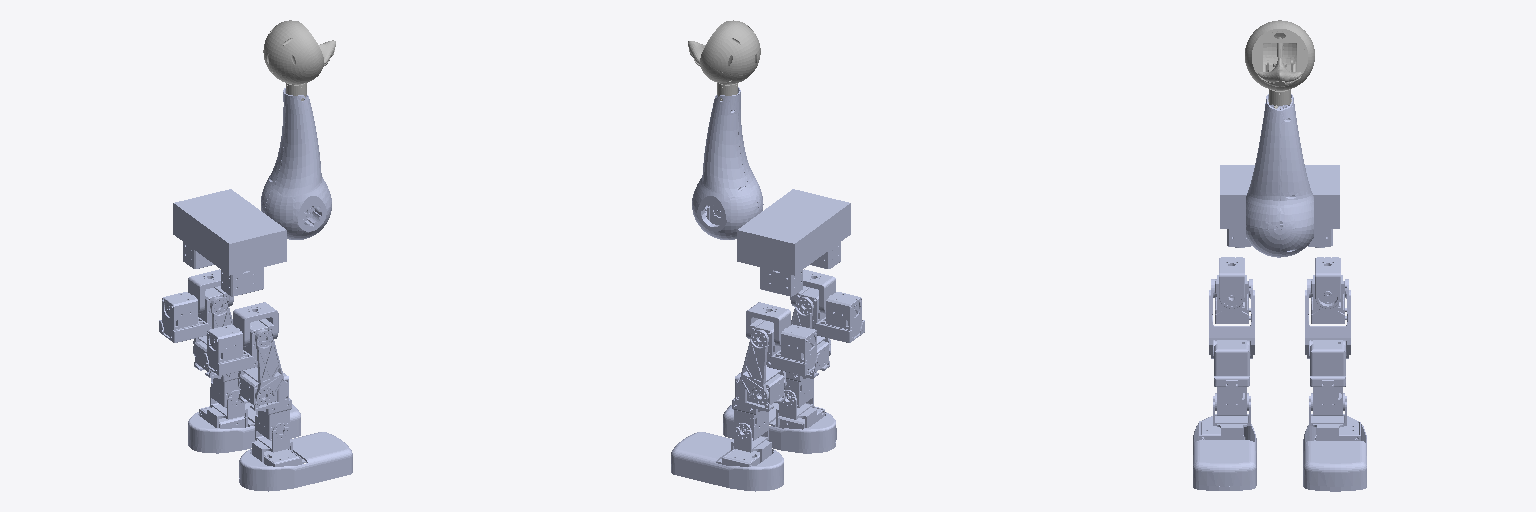
--- What the picture shows (computed from the rendered views, not written in the file) ---
3 views of the same robot in one strip: view 1: azimuth 30°, elevation 25°; view 2: azimuth 150°, elevation 25°; view 3: azimuth 270°, elevation 25° (orthographic).
Robot: exhx5 — 17 links, 16 joints (15 revolute, 1 fixed); root link Base; default pose: all joints at 0.
Visible links, largest first — view 1: body_link, neck_pitch_link, r_ank_roll_link, head_pan_link, l_ank_roll_link, r_hip_roll_link, l_hip_roll_link, r_knee_link, r_hip_pitch_link, l_knee_link, r_hip_yaw_link, r_ank_pitch_link (+3 smaller); view 2: body_link, neck_pitch_link, l_ank_roll_link, head_pan_link, r_ank_roll_link, l_hip_roll_link, r_hip_roll_link, l_knee_link, l_hip_pitch_link, r_knee_link, l_hip_yaw_link, r_hip_yaw_link (+3 smaller); view 3: neck_pitch_link, body_link, head_pan_link, r_ank_roll_link, l_ank_roll_link, l_knee_link, r_knee_link, r_hip_pitch_link, l_hip_pitch_link, r_hip_roll_link, l_hip_yaw_link, l_hip_roll_link (+3 smaller).
Link boxes in pixels (box(x1,y1,x2,y2)): body_link: box(173, 189, 286, 296); neck_pitch_link: box(261, 88, 331, 239); r_ank_roll_link: box(239, 432, 352, 491); head_pan_link: box(263, 20, 335, 84); l_ank_roll_link: box(188, 403, 300, 453); r_hip_roll_link: box(204, 319, 273, 375); l_hip_roll_link: box(159, 286, 229, 342); r_knee_link: box(239, 373, 291, 440); r_hip_pitch_link: box(238, 330, 283, 404); l_knee_link: box(194, 341, 239, 407); r_hip_yaw_link: box(233, 302, 278, 346); r_ank_pitch_link: box(252, 427, 292, 462); body_link: box(737, 189, 850, 296); neck_pitch_link: box(692, 87, 763, 239); l_ank_roll_link: box(671, 432, 783, 491); head_pan_link: box(688, 20, 760, 84); r_ank_roll_link: box(723, 403, 836, 453); l_hip_roll_link: box(750, 319, 819, 375); r_hip_roll_link: box(795, 286, 864, 342); l_knee_link: box(732, 373, 785, 440); l_hip_pitch_link: box(740, 330, 786, 404); r_knee_link: box(784, 341, 829, 407); l_hip_yaw_link: box(746, 302, 790, 346); r_hip_yaw_link: box(790, 269, 835, 313); neck_pitch_link: box(1246, 94, 1313, 257); body_link: box(1220, 165, 1339, 247); head_pan_link: box(1245, 20, 1314, 90); r_ank_roll_link: box(1193, 416, 1256, 490); l_ank_roll_link: box(1303, 416, 1366, 491); l_knee_link: box(1310, 340, 1345, 415); r_knee_link: box(1214, 340, 1249, 415); r_hip_pitch_link: box(1209, 279, 1254, 358); l_hip_pitch_link: box(1305, 279, 1350, 358); r_hip_roll_link: box(1215, 257, 1250, 323); l_hip_yaw_link: box(1315, 258, 1340, 308); l_hip_roll_link: box(1311, 257, 1346, 323).
Size in the robot's own frame: 0.2042 by 0.1967 by 0.5655 metres.
16 mesh visuals loaded from 16 distinct referenced files (16 binary STL).

The robot description file, URDF, robot "exhx5":
<?xml version="1.0" ?>
<!-- =================================================================================== -->
<!-- |    This document was autogenerated by xacro from exhx5.urdf.xacro               | -->
<!-- |    EDITING THIS FILE BY HAND IS NOT RECOMMENDED                                 | -->
<!-- =================================================================================== -->
<!-- This URDF was automatically created by SolidWorks to URDF Exporter! Originally created by Stephen Brawner ([email redacted]) 
     Commit Version: 1.5.0-0-g9aa0fdb  Build Version: 1.5.7004.21443
     For more information, please see http://wiki.ros.org/sw_urdf_exporter -->
<robot name="exhx5" xmlns:xacro="http://ros.org/wiki/xacro">
  <gazebo>
    <plugin filename="libgazebo_ros_control.so" name="gazebo_ros_control">
      <robotNamespace>/exhx5</robotNamespace>
      <robotSimType>gazebo_ros_control/DefaultRobotHWSim</robotSimType>
      <legacyModeNS>true</legacyModeNS>
    </plugin>
  </gazebo>
  <!-- body link -->
  <gazebo reference="body_link">
    <mu1>0.2</mu1>
    <mu2>0.2</mu2>
    <material>Gazebo/White</material>
    <selfCollide>false</selfCollide>
  </gazebo>
  <!-- left leg links -->
  <gazebo reference="l_hip_yaw_link">
    <mu1>0.2</mu1>
    <mu2>0.2</mu2>
    <material>Gazebo/White</material>
    <selfCollide>false</selfCollide>
  </gazebo>
  <gazebo reference="l_hip_roll_link">
    <mu1>0.2</mu1>
    <mu2>0.2</mu2>
    <material>Gazebo/White</material>
    <selfCollide>false</selfCollide>
  </gazebo>
  <gazebo reference="l_hip_pitch_link">
    <mu1>0.2</mu1>
    <mu2>0.2</mu2>
    <material>Gazebo/White</material>
    <selfCollide>false</selfCollide>
  </gazebo>
  <gazebo reference="l_knee_link">
    <mu1>0.2</mu1>
    <mu2>0.2</mu2>
    <material>Gazebo/White</material>
    <selfCollide>false</selfCollide>
  </gazebo>
  <gazebo reference="l_ank_pitch_link">
    <mu1>0.2</mu1>
    <mu2>0.2</mu2>
    <material>Gazebo/White</material>
    <selfCollide>false</selfCollide>
  </gazebo>
  <gazebo reference="l_ank_roll_link">
    <kp>800000.0</kp>
    <kd>10.0</kd>
    <mu1>0.6</mu1>
    <mu2>0.6</mu2>
    <!--<fdir1>1 0 0</fdir1>-->
    <maxVel>1.0</maxVel>
    <minDepth>0.001</minDepth>
    <material>Gazebo/White</material>
  </gazebo>
  <!-- right leg links -->
  <gazebo reference="r_hip_yaw_link">
    <mu1>0.2</mu1>
    <mu2>0.2</mu2>
    <material>Gazebo/White</material>
    <selfCollide>false</selfCollide>
  </gazebo>
  <gazebo reference="r_hip_roll_link">
    <mu1>0.2</mu1>
    <mu2>0.2</mu2>
    <material>Gazebo/White</material>
    <selfCollide>false</selfCollide>
  </gazebo>
  <gazebo reference="r_hip_pitch_link">
    <mu1>0.2</mu1>
    <mu2>0.2</mu2>
    <material>Gazebo/White</material>
    <selfCollide>false</selfCollide>
  </gazebo>
  <gazebo reference="r_knee_link">
    <mu1>0.2</mu1>
    <mu2>0.2</mu2>
    <material>Gazebo/White</material>
    <selfCollide>false</selfCollide>
  </gazebo>
  <gazebo reference="r_ank_pitch_link">
    <mu1>0.2</mu1>
    <mu2>0.2</mu2>
    <material>Gazebo/White</material>
    <selfCollide>false</selfCollide>
  </gazebo>
  <gazebo reference="r_ank_roll_link">
    <kp>800000.0</kp>
    <kd>10.0</kd>
    <mu1>0.6</mu1>
    <mu2>0.6</mu2>
    <!--<fdir1>1 0 0</fdir1>-->
    <maxVel>1.0</maxVel>
    <minDepth>0.001</minDepth> 
    <material>Gazebo/White</material>
  </gazebo>
  <!--upper body-->
  <gazebo reference="head_tilt_link">
    <mu1>0.2</mu1>
    <mu2>0.2</mu2>
    <material>Gazebo/White</material>
    <selfCollide>false</selfCollide>
  </gazebo>
  <gazebo reference="neck_pitch_link">
    <mu1>0.2</mu1>
    <mu2>0.2</mu2>
    <material>Gazebo/White</material>
    <selfCollide>false</selfCollide>
  </gazebo>
  <gazebo reference="head_pan_link">
    <mu1>0.2</mu1>
    <mu2>0.2</mu2>
    <material>Gazebo/White</material>
    <selfCollide>false</selfCollide>
  </gazebo>

  <!--<link name="world">
  </link>
  <joint name="fixed" type="fixed">
    <parent link="world"/>
    <child link="Base"/>
  </joint>-->
 
  <link name="Base">
  </link>
  <joint name="dummy" type="fixed">
    <parent link="Base"/>
    <child link="body_link"/>
  </joint>

  <link name="body_link">

    <inertial>
      <!--<origin rpy="0 0 0" xyz="-0.024506 -3.2231E-05 0.033725"/>
      <mass value="0.75842"/>-->
      <origin rpy="0 0 0" xyz="0.015506 -3.2231E-05 0.033725"/>
      <mass value="0.125842"/>
      <inertia ixx="0.0018267" ixy="-0.00016368" ixz="-0.00022149" iyy="0.0028108" iyz="-5.9556E-06" izz="0.0041242"/>
    </inertial>
    <visual>
      <origin rpy="0 0 0" xyz="0 0 0"/>
      <geometry>
        <mesh filename="package://exhx5_description/meshes/body_link.STL"/>
      </geometry>
      <material name="">
        <color rgba="0.79216 0.81961 0.93333 1"/>
      </material>
    </visual>
    <collision>
      <origin rpy="0 0 0" xyz="0 0 0"/>
      <geometry>
        <mesh filename="package://exhx5_description/meshes/body_link.STL"/>
      </geometry>
    </collision>
  </link>
  <link name="r_hip_yaw_link">
    <inertial>
      <origin rpy="0 0 0" xyz="6.9389E-16 0.00049037 0.015811"/>
      <mass value="0.017594"/>
      <inertia ixx="8.0769E-06" ixy="9.3231E-20" ixz="-6.8781E-20" iyy="3.8081E-06" iyz="4.4924E-07" izz="6.9409E-06"/>
    </inertial>
    <visual>
      <origin rpy="0 0 0" xyz="0 0 0"/>
      <geometry>
        <mesh filename="package://exhx5_description/meshes/r_hip_yaw_link.STL"/>
      </geometry>
      <material name="">
        <color rgba="0.79216 0.81961 0.93333 1"/>
      </material>
    </visual>
    <collision>
      <origin rpy="0 0 0" xyz="0 0 0"/>
      <geometry>
        <mesh filename="package://exhx5_description/meshes/r_hip_yaw_link.STL"/>
      </geometry>
    </collision>
  </link>
  <joint name="r_hip_yaw" type="revolute">
    <origin rpy="0 0 1.57079632679488" xyz="0 -0.0539999999999998 -0.024500000000006"/>
    <parent link="body_link"/>
    <child link="r_hip_yaw_link"/>
    <axis xyz="0 0 -1"/>
        <limit effort="1000" velocity="100" lower="-3.14" upper="3.14" /> 
     
  </joint>
  <link name="r_hip_roll_link">
    <inertial>
      <origin rpy="0 0 0" xyz="0.013265 -0.00034234 -0.01908"/>
      <mass value="0.10053"/>
      <inertia ixx="1.7395E-05" ixy="-2.6908E-07" ixz="3.1908E-07" iyy="2.5171E-05" iyz="-1.1436E-12" izz="2.5299E-05"/>
    </inertial>
    <visual>
      <origin rpy="0 0 0" xyz="0 0 0"/>
      <geometry>
        <mesh filename="package://exhx5_description/meshes/r_hip_roll_link.STL"/>
      </geometry>
      <material name="">
        <color rgba="0.79216 0.81961 0.93333 1"/>
      </material>
    </visual>
    <collision>
      <origin rpy="0 0 0" xyz="0 0 0"/>
      <geometry>
        <mesh filename="package://exhx5_description/meshes/r_hip_roll_link.STL"/>
      </geometry>
    </collision>
  </link>
  <joint name="r_hip_roll" type="revolute">
    <origin rpy="1.5708 1.5708 0" xyz="0 0 0"/>
    <parent link="r_hip_yaw_link"/>
    <child link="r_hip_roll_link"/>
    <axis xyz="0 0 -1"/>
        <limit effort="1000" velocity="100" lower="-3.14" upper="3.14" /> 
     
  </joint>
  <link name="r_hip_pitch_link">
    <inertial>
      <origin rpy="0 0 0" xyz="0.041705 0.0061699 2.177E-08"/>
      <mass value="0.023646"/>
      <inertia ixx="1.2406E-05" ixy="-7.7791E-07" ixz="9.7606E-13" iyy="2.2891E-05" iyz="4.5062E-12" izz="1.4533E-05"/>
    </inertial>
    <visual>
      <origin rpy="0 0 0" xyz="0 0 0"/>
      <geometry>
        <mesh filename="package://exhx5_description/meshes/r_hip_pitch_link.STL"/>
      </geometry>
      <material name="">
        <color rgba="0.79216 0.81961 0.93333 1"/>
      </material>
    </visual>
    <collision>
      <origin rpy="0 0 0" xyz="0 0 0"/>
      <geometry>
        <mesh filename="package://exhx5_description/meshes/r_hip_pitch_link.STL"/>
      </geometry>
    </collision>
  </link>
  <joint name="r_hip_pitch" type="revolute">
    <origin rpy="1.5708 0 0" xyz="0 0 0"/>
    <parent link="r_hip_roll_link"/>
    <child link="r_hip_pitch_link"/>
    <axis xyz="0 0 1"/>
    <limit effort="1000" velocity="100" lower="-3.14" upper="3.14" /> 
     
  </joint>
  <link name="r_knee_link">
    <inertial>
      <origin rpy="0 0 0" xyz="0.025579 0.0091776 0.00042921"/>
      <mass value="0.10139"/>
      <inertia ixx="2.4558E-05" ixy="4.9361E-07" ixz="-1.2228E-07" iyy="2.2855E-05" iyz="3.2346E-07" izz="2.5943E-05"/>
    </inertial>
    <visual>
      <origin rpy="0 0 0" xyz="0 0 0"/>
      <geometry>
        <mesh filename="package://exhx5_description/meshes/r_knee_link.STL"/>
      </geometry>
      <material name="">
        <color rgba="0.79216 0.81961 0.93333 1"/>
      </material>
    </visual>
    <collision>
      <origin rpy="0 0 0" xyz="0 0 0"/>
      <geometry>
        <mesh filename="package://exhx5_description/meshes/r_knee_link.STL"/>
      </geometry>
    </collision>
  </link>
  <joint name="r_knee" type="revolute">
    <origin rpy="0 0.0004216 0.42593" xyz="0.075954 0 0"/>
    <parent link="r_hip_pitch_link"/>
    <child link="r_knee_link"/>
    <axis xyz="-0.0004216 0 1"/>
    <limit effort="1000" velocity="100" lower="-3.14" upper="3.14" /> 
     
  </joint>
  <link name="r_ank_pitch_link">
    <inertial>
      <origin rpy="0 0 0" xyz="0.02325 -2.2204E-16 1.3878E-17"/>
      <mass value="0.0095421"/>
      <inertia ixx="3.5492E-06" ixy="1.0553E-21" ixz="1.8686E-21" iyy="2.8994E-06" iyz="-8.2951E-22" izz="2.8994E-06"/>
    </inertial>
    <visual>
      <origin rpy="0 0 0" xyz="0 0 0"/>
      <geometry>
        <mesh filename="package://exhx5_description/meshes/r_ank_pitch_link.STL"/>
      </geometry>
      <material name="">
        <color rgba="0.79216 0.81961 0.93333 1"/>
      </material>
    </visual>
    <collision>
      <origin rpy="0 0 0" xyz="0 0 0"/>
      <geometry>
        <mesh filename="package://exhx5_description/meshes/r_ank_pitch_link.STL"/>
      </geometry>
    </collision>
  </link>

  <!-- change the axis from <axis xyz="0 0 1"/>/-->  
  <joint name="r_ank_pitch" type="revolute">
    <origin rpy="0.00017419 -0.00038393 -0.42593" xyz="0.059298 0 0"/>
    <parent link="r_knee_link"/>
    <child link="r_ank_pitch_link"/>
    <axis xyz="0 0 -1"/>
    <limit effort="1000" velocity="100" lower="-3.14" upper="3.14" /> 
     
  </joint>
  
  <link name="r_ank_roll_link">
    <inertial>
      <origin rpy="0 0 0" xyz="0.00474 -0.010189 0.017732"/>
      <mass value="0.1244"/>
      <inertia ixx="0.00013147" ixy="1.1537E-08" ixz="1.5896E-06" iyy="9.5366E-05" iyz="-2.4562E-07" izz="4.9024E-05"/>
    </inertial>
    <visual>
      <origin rpy="0 0 0" xyz="0 0 0"/>
      <geometry>
        <mesh filename="package://exhx5_description/meshes/r_ank_roll_link.STL"/>
      </geometry>
      <material name="">
        <color rgba="0.79216 0.81961 0.93333 1"/>
      </material>
    </visual>
    <collision>
      <origin rpy="0 0 0" xyz="0 0 0"/>
      <geometry>
        <mesh filename="package://exhx5_description/meshes/r_ank_roll_link.STL"/>
      </geometry>
    </collision>
  </link>
  <joint name="r_ank_roll" type="revolute">
    <origin rpy="-1.5708 0 0" xyz="0.0465 0 0"/>
    <parent link="r_ank_pitch_link"/>
    <child link="r_ank_roll_link"/>
    <axis xyz="0 0 1"/>
    <limit effort="1000" velocity="100" lower="-3.14" upper="3.14" /> 
     
  </joint>
  <link name="l_hip_yaw_link">
    <inertial>
      <origin rpy="0 0 0" xyz="2.5674E-16 0.00049037 0.015811"/>
      <mass value="0.017594"/>
      <inertia ixx="8.0769E-06" ixy="9.4844E-20" ixz="-7.0787E-20" iyy="3.8081E-06" iyz="4.4924E-07" izz="6.9409E-06"/>
    </inertial>
    <visual>
      <origin rpy="0 0 0" xyz="0 0 0"/>
      <geometry>
        <mesh filename="package://exhx5_description/meshes/l_hip_yaw_link.STL"/>
      </geometry>
      <material name="">
        <color rgba="0.79216 0.81961 0.93333 1"/>
      </material>
    </visual>
    <collision>
      <origin rpy="0 0 0" xyz="0 0 0"/>
      <geometry>
        <mesh filename="package://exhx5_description/meshes/l_hip_yaw_link.STL"/>
      </geometry>
    </collision>
  </link>
  <joint name="l_hip_yaw" type="revolute">
    <origin rpy="0 0 1.5708" xyz="0 0.054 -0.0245"/>
    <parent link="body_link"/>
    <child link="l_hip_yaw_link"/>
    <axis xyz="-2.8454E-05 0 -1"/>
    <limit effort="1000" velocity="100" lower="-3.14" upper="3.14" /> 
     
  </joint>
  <link name="l_hip_roll_link">
    <inertial>
      <origin rpy="0 0 0" xyz="0.013576 -0.00035038 -0.020028"/>
      <mass value="0.098221"/>
      <inertia ixx="1.7307E-05" ixy="-2.6908E-07" ixz="3.1908E-07" iyy="2.5083E-05" iyz="-1.1436E-12" izz="2.5141E-05"/>
    </inertial>
    <visual>
      <origin rpy="0 0 0" xyz="0 0 0"/>
      <geometry>
        <mesh filename="package://exhx5_description/meshes/l_hip_roll_link.STL"/>
      </geometry>
      <material name="">
        <color rgba="0.79216 0.81961 0.93333 1"/>
      </material>
    </visual>
    <collision>
      <origin rpy="0 0 0" xyz="0 0 0"/>
      <geometry>
        <mesh filename="package://exhx5_description/meshes/l_hip_roll_link.STL"/>
      </geometry>
    </collision>
  </link>
  <joint name="l_hip_roll" type="revolute">
    <origin rpy="1.5708 1.5708 0" xyz="0 0 0"/>
    <parent link="l_hip_yaw_link"/>
    <child link="l_hip_roll_link"/>
    <axis xyz="0 0 -1"/>
    <limit effort="1000" velocity="100" lower="-3.14" upper="3.14" /> 
     
  </joint>
  <link name="l_hip_pitch_link">
    <inertial>
      <origin rpy="0 0 0" xyz="0.041705 0.0061699 2.1346E-08"/>
      <mass value="0.023646"/>
      <inertia ixx="1.2406E-05" ixy="-7.7791E-07" ixz="8.1343E-13" iyy="2.2891E-05" iyz="4.6012E-12" izz="1.4533E-05"/>
    </inertial>
    <visual>
      <origin rpy="0 0 0" xyz="0 0 0"/>
      <geometry>
        <mesh filename="package://exhx5_description/meshes/l_hip_pitch_link.STL"/>
      </geometry>
      <material name="">
        <color rgba="0.79216 0.81961 0.93333 1"/>
      </material>
    </visual>
    <collision>
      <origin rpy="0 0 0" xyz="0 0 0"/>
      <geometry>
        <mesh filename="package://exhx5_description/meshes/l_hip_pitch_link.STL"/>
      </geometry>
    </collision>
  </link>
  <joint name="l_hip_pitch" type="revolute">
    <origin rpy="1.5708 0 0" xyz="0 0 0"/>
    <parent link="l_hip_roll_link"/>
    <child link="l_hip_pitch_link"/>
    <axis xyz="0 0 -1"/>
    <limit effort="1000" velocity="100" lower="-3.14" upper="3.14" /> 
     
  </joint>
  <link name="l_knee_link">
    <inertial>
      <origin rpy="0 0 0" xyz="0.025567 0.0092446 0.00043028"/>
      <mass value="0.10219"/>
      <inertia ixx="2.4767E-05" ixy="5.0737E-07" ixz="-1.2513E-07" iyy="2.3061E-05" iyz="3.2454E-07" izz="2.6112E-05"/>
    </inertial>
    <visual>
      <origin rpy="0 0 0" xyz="0 0 0"/>
      <geometry>
        <mesh filename="package://exhx5_description/meshes/l_knee_link.STL"/>
      </geometry>
      <material name="">
        <color rgba="0.79216 0.81961 0.93333 1"/>
      </material>
    </visual>
    <collision>
      <origin rpy="0 0 0" xyz="0 0 0"/>
      <geometry>
        <mesh filename="package://exhx5_description/meshes/l_knee_link.STL"/>
      </geometry>
    </collision>
  </link>
  <joint name="l_knee" type="revolute">
    <origin rpy="0 0.0025296 0.42593" xyz="0.075954 0 0"/>
    <parent link="l_hip_pitch_link"/>
    <child link="l_knee_link"/>
    <axis xyz="0.0025296 0 -1"/>
    <limit effort="1000" velocity="100" lower="-3.14" upper="3.14" /> 
     
  </joint>
  <link name="l_ank_pitch_link">
    <inertial>
      <origin rpy="0 0 0" xyz="0.02325 2.3176E-15 -1.4919E-15"/>
      <mass value="0.0095421"/>
      <inertia ixx="3.5492E-06" ixy="-5.3001E-21" ixz="1.6479E-21" iyy="2.8994E-06" iyz="-6.6441E-22" izz="2.8994E-06"/>
    </inertial>
    <visual>
      <origin rpy="0 0 0" xyz="0 0 0"/>
      <geometry>
        <mesh filename="package://exhx5_description/meshes/l_ank_pitch_link.STL"/>
      </geometry>
      <material name="">
        <color rgba="0.79216 0.81961 0.93333 1"/>
      </material>
    </visual>
    <collision>
      <origin rpy="0 0 0" xyz="0 0 0"/>
      <geometry>
        <mesh filename="package://exhx5_description/meshes/l_ank_pitch_link.STL"/>
      </geometry>
    </collision>
  </link>
  <joint name="l_ank_pitch" type="revolute">
    <origin rpy="0.0010451 -0.0023036 -0.42593" xyz="0.059298 0 0"/>
    <parent link="l_knee_link"/>
    <child link="l_ank_pitch_link"/>
    <axis xyz="0 0 1"/>
    <limit effort="1000" velocity="100" lower="-3.14" upper="3.14" /> 
     
  </joint>
  <link name="l_ank_roll_link">
    <inertial>
      <origin rpy="0 0 0" xyz="0.004986 0.0099744 0.020867"/>
      <mass value="0.13679"/>
      <inertia ixx="0.00013651" ixy="1.0973E-06" ixz="-1.4778E-07" iyy="9.9705E-05" iyz="2.0814E-06" izz="5.2371E-05"/>
    </inertial>
    <visual>
      <origin rpy="0 0 0" xyz="0 0 0"/>
      <geometry>
        <mesh filename="package://exhx5_description/meshes/l_ank_roll_link.STL"/>
      </geometry>
      <material name="">
        <color rgba="0.79216 0.81961 0.93333 1"/>
      </material>
    </visual>
    <collision>
      <origin rpy="0 0 0" xyz="0 0 0"/>
      <geometry>
        <mesh filename="package://exhx5_description/meshes/l_ank_roll_link.STL"/>
      </geometry>
    </collision>
  </link>
  <joint name="l_ank_roll" type="revolute">
    <origin rpy="-1.5708 0 0" xyz="0.0465 0 0"/>
    <parent link="l_ank_pitch_link"/>
    <child link="l_ank_roll_link"/>
    <axis xyz="0 0 1"/>
    <limit effort="1000" velocity="100" lower="-3.14" upper="3.14" /> 
     
  </joint>
  <link name="neck_pitch_link">
    <inertial>
      <origin rpy="0 0 0" xyz="0.023537 -0.003724 -0.00028487"/>

      <mass value="0.1662"/>
      <inertia ixx="6.6503E-05" ixy="1.0732E-06" ixz="6.9267E-06" iyy="0.00022623" iyz="4.8946E-06" izz="0.00025375"/>
    </inertial>
    <visual>
      <origin rpy="0 0 0" xyz="0 0 0"/>
      <geometry>
        <mesh filename="package://exhx5_description/meshes/neck_pitch_link.STL"/>
      </geometry>
      <material name="">
        <color rgba="0.79216 0.81961 0.93333 1"/>
      </material>
    </visual>
    <collision>
      <origin rpy="0 0 0" xyz="0 0 0"/>
      <geometry>
        <mesh filename="package://exhx5_description/meshes/neck_pitch_link.STL"/>
      </geometry>
    </collision>
  </link>
  <joint name="neck_pitch" type="revolute">
    <origin rpy="1.5708 -1.5708 0" xyz="0.08865 0 0.10254"/>
    <parent link="body_link"/>
    <child link="neck_pitch_link"/>
    <axis xyz="0 0 -1"/>
    <limit effort="1000" velocity="100" lower="-3.14" upper="3.14" /> 
     
  </joint>
  <link name="head_tilt_link">
    <inertial>
      <origin rpy="0 0 0" xyz="-0.00070546 0.013146 0.00027149"/>
      <mass value="0.0061954"/>
      <inertia ixx="5.3428E-07" ixy="-1.5374E-08" ixz="-3.8762E-09" iyy="5.8024E-07" iyz="1.3817E-08" izz="4.6408E-07"/>
    </inertial>
    <visual>
      <origin rpy="0 0 0" xyz="0 0 0"/>
      <geometry>
        <mesh filename="package://exhx5_description/meshes/head_tilt_link.STL"/>
      </geometry>
      <material name="">
        <color rgba="0.7451 0.7451 0.7451 1"/>
      </material>
    </visual>
    <collision>
      <origin rpy="0 0 0" xyz="0 0 0"/>
      <geometry>
        <mesh filename="package://exhx5_description/meshes/head_tilt_link.STL"/>
      </geometry>
    </collision>
  </link>
  <joint name="head_tilt" type="revolute">
    <origin rpy="0 0 -1.5708" xyz="0.14528 0 0"/>
    <parent link="neck_pitch_link"/>
    <child link="head_tilt_link"/>
    <axis xyz="0 0 -1"/>
    <limit effort="1000" velocity="100" lower="-3.14" upper="3.14" /> 
     
  </joint>
  <link name="head_pan_link">
    <inertial>
      <origin rpy="0 0 0" xyz="0.0052568 -9.7868E-05 0.053166"/>
      <mass value="0.039218"/>
      <!--mass value="0.039218"/-->
      <inertia ixx="2.6979E-05" ixy="-3.471E-09" ixz="-1.7411E-06" iyy="1.8556E-05" iyz="-6.4409E-08" izz="2.0489E-05"/>
    </inertial>
    <visual>
      <origin rpy="0 0 0" xyz="0 0 0"/>
      <geometry>
        <mesh filename="package://exhx5_description/meshes/head_pan_link.STL"/>
      </geometry>
      <material name="">
        <color rgba="0.75294 0.75294 0.75294 1"/>
      </material>
    </visual>
    <collision>
      <origin rpy="0 0 0" xyz="0 0 0"/>
      <geometry>
        <mesh filename="package://exhx5_description/meshes/head_pan_link.STL"/>
      </geometry>
    </collision>
  </link>
  <joint name="head_pan" type="revolute">
    <origin rpy="-1.5708 0 0" xyz="0 0 0"/>
    <parent link="head_tilt_link"/>
    <child link="head_pan_link"/>
    <axis xyz="0 0 -1"/>
    <limit effort="1000" velocity="100" lower="-3.14" upper="3.14" /> 
     
  </joint>
  <transmission name="r_hip_yaw_tran">
    <type>transmission_interface/SimpleTransmission</type>
    <joint name="r_hip_yaw">
      <hardwareInterface>hardware_interface/EffortJointInterface</hardwareInterface>
    </joint>
    <actuator name="r_hip_yaw_motor">
      <hardwareInterface>hardware_interface/EffortJointInterface</hardwareInterface>
      <mechanicalReduction>1</mechanicalReduction>
    </actuator>
  </transmission>
  <transmission name="r_hip_roll_tran">
    <type>transmission_interface/SimpleTransmission</type>
    <joint name="r_hip_roll">
      <hardwareInterface>hardware_interface/EffortJointInterface</hardwareInterface>
    </joint>
    <actuator name="r_hip_roll_motor">
      <hardwareInterface>hardware_interface/EffortJointInterface</hardwareInterface>
      <mechanicalReduction>1</mechanicalReduction>
    </actuator>
  </transmission>
  <transmission name="r_hip_pitch_tran">
    <type>transmission_interface/SimpleTransmission</type>
    <joint name="r_hip_pitch">
      <hardwareInterface>hardware_interface/EffortJointInterface</hardwareInterface>
    </joint>
    <actuator name="r_hip_pitch_motor">
      <hardwareInterface>hardware_interface/EffortJointInterface</hardwareInterface>
      <mechanicalReduction>1</mechanicalReduction>
    </actuator>
  </transmission>
  <transmission name="r_knee_tran">
    <type>transmission_interface/SimpleTransmission</type>
    <joint name="r_knee">
      <hardwareInterface>hardware_interface/EffortJointInterface</hardwareInterface>
    </joint>
    <actuator name="r_knee_motor">
      <hardwareInterface>hardware_interface/EffortJointInterface</hardwareInterface>
      <mechanicalReduction>1</mechanicalReduction>
    </actuator>
  </transmission>
  <transmission name="r_ank_pitch_tran">
    <type>transmission_interface/SimpleTransmission</type>
    <joint name="r_ank_pitch">
      <hardwareInterface>hardware_interface/EffortJointInterface</hardwareInterface>
    </joint>
    <actuator name="r_ank_pitch_motor">
      <hardwareInterface>hardware_interface/EffortJointInterface</hardwareInterface>
      <mechanicalReduction>1</mechanicalReduction>
    </actuator>
  </transmission>
  <transmission name="r_ank_roll_tran">
    <type>transmission_interface/SimpleTransmission</type>
    <joint name="r_ank_roll">
      <hardwareInterface>hardware_interface/EffortJointInterface</hardwareInterface>
    </joint>
    <actuator name="r_ank_roll_motor">
      <hardwareInterface>hardware_interface/EffortJointInterface</hardwareInterface>
      <mechanicalReduction>1</mechanicalReduction>
    </actuator>
  </transmission>
  <transmission name="l_hip_yaw_tran">
    <type>transmission_interface/SimpleTransmission</type>
    <joint name="l_hip_yaw">
      <hardwareInterface>hardware_interface/EffortJointInterface</hardwareInterface>
    </joint>
    <actuator name="l_hip_yaw_motor">
      <hardwareInterface>hardware_interface/EffortJointInterface</hardwareInterface>
      <mechanicalReduction>1</mechanicalReduction>
    </actuator>
  </transmission>
  <transmission name="l_hip_roll_tran">
    <type>transmission_interface/SimpleTransmission</type>
    <joint name="l_hip_roll">
      <hardwareInterface>hardware_interface/EffortJointInterface</hardwareInterface>
    </joint>
    <actuator name="l_hip_roll_motor">
      <hardwareInterface>hardware_interface/EffortJointInterface</hardwareInterface>
      <mechanicalReduction>1</mechanicalReduction>
    </actuator>
  </transmission>
  <transmission name="l_hip_pitch_tran">
    <type>transmission_interface/SimpleTransmission</type>
    <joint name="l_hip_pitch">
      <hardwareInterface>hardware_interface/EffortJointInterface</hardwareInterface>
    </joint>
    <actuator name="l_hip_pitch_motor">
      <hardwareInterface>hardware_interface/EffortJointInterface</hardwareInterface>
      <mechanicalReduction>1</mechanicalReduction>
    </actuator>
  </transmission>
  <transmission name="l_knee_tran">
    <type>transmission_interface/SimpleTransmission</type>
    <joint name="l_knee">
      <hardwareInterface>hardware_interface/EffortJointInterface</hardwareInterface>
    </joint>
    <actuator name="l_knee_motor">
      <hardwareInterface>hardware_interface/EffortJointInterface</hardwareInterface>
      <mechanicalReduction>1</mechanicalReduction>
    </actuator>
  </transmission>
  <transmission name="l_ank_pitch_tran">
    <type>transmission_interface/SimpleTransmission</type>
    <joint name="l_ank_pitch">
      <hardwareInterface>hardware_interface/EffortJointInterface</hardwareInterface>
    </joint>
    <actuator name="l_ank_pitch_motor">
      <hardwareInterface>hardware_interface/EffortJointInterface</hardwareInterface>
      <mechanicalReduction>1</mechanicalReduction>
    </actuator>
  </transmission>
  <transmission name="l_ank_roll_tran">
    <type>transmission_interface/SimpleTransmission</type>
    <joint name="l_ank_roll">
      <hardwareInterface>hardware_interface/EffortJointInterface</hardwareInterface>
    </joint>
    <actuator name="l_ank_roll_motor">
      <hardwareInterface>hardware_interface/EffortJointInterface</hardwareInterface>
      <mechanicalReduction>1</mechanicalReduction>
    </actuator>
  </transmission>
  <transmission name="neck_pitch_tran">
    <type>transmission_interface/SimpleTransmission</type>
    <joint name="neck_pitch">
      <hardwareInterface>hardware_interface/EffortJointInterface</hardwareInterface>
    </joint>
    <actuator name="neck_pitch_motor">
      <hardwareInterface>hardware_interface/EffortJointInterface</hardwareInterface>
      <mechanicalReduction>1</mechanicalReduction>
    </actuator>
  </transmission>
  <transmission name="head_tilt_tran">
    <type>transmission_interface/SimpleTransmission</type>
    <joint name="head_tilt">
      <hardwareInterface>hardware_interface/EffortJointInterface</hardwareInterface>
    </joint>
    <actuator name="head_tilt_motor">
      <hardwareInterface>hardware_interface/EffortJointInterface</hardwareInterface>
      <mechanicalReduction>1</mechanicalReduction>
    </actuator>
  </transmission>
  <transmission name="head_pan_tran">
    <type>transmission_interface/SimpleTransmission</type>
    <joint name="head_pan">
      <hardwareInterface>hardware_interface/EffortJointInterface</hardwareInterface>
    </joint>
    <actuator name="head_pan_motor">
      <hardwareInterface>hardware_interface/EffortJointInterface</hardwareInterface>
      <mechanicalReduction>1</mechanicalReduction>
    </actuator>
  </transmission>
</robot>
